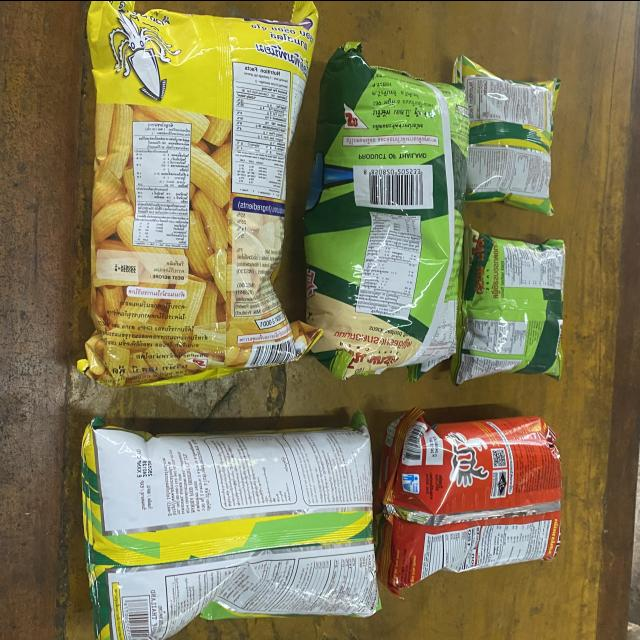plastik: (78, 0, 320, 385), (82, 417, 380, 640), (304, 41, 469, 380), (376, 407, 562, 595), (451, 226, 566, 384), (454, 56, 560, 214)
